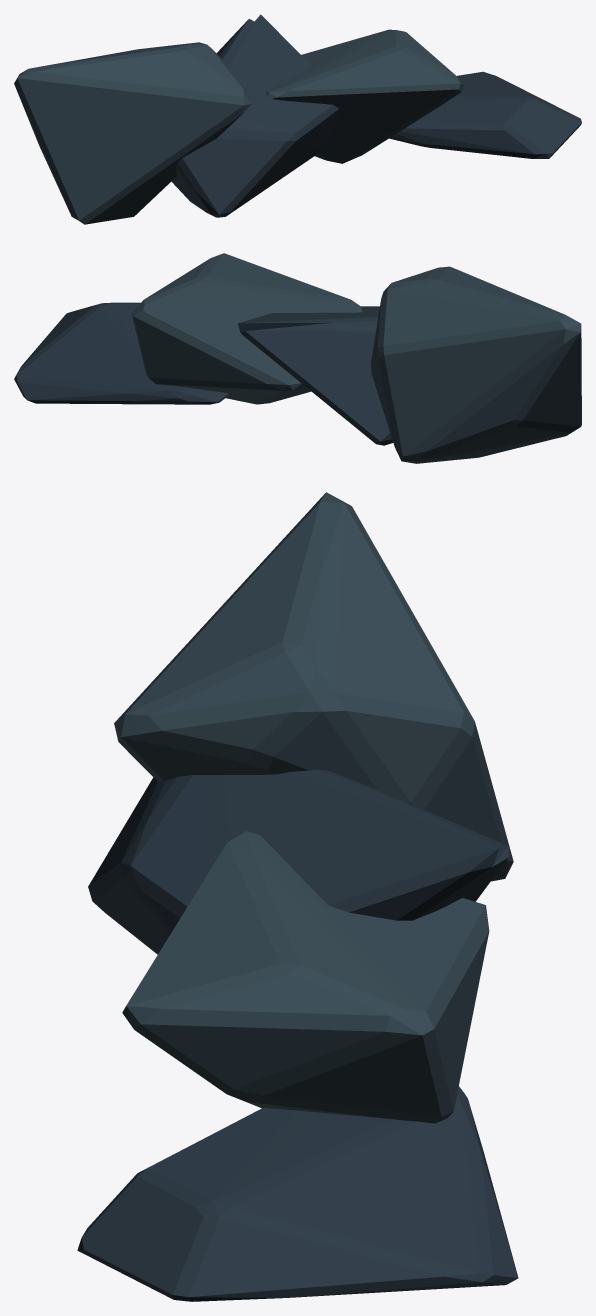
Rendered from inc_mare_rocha.fbx.
The picture shows the model from 3 angles, top to bottom: view 1: azimuth 30°, elevation 25°; view 2: azimuth 150°, elevation 25°; view 3: azimuth 270°, elevation 25°; orthographic projection. The views are drawn at different scales.
Visible parts, largest first — view 1: inc_mare_rocha; view 2: inc_mare_rocha; view 3: inc_mare_rocha.
Part boxes in pixels (left/top/right/bottom): inc_mare_rocha: left=14, top=14, right=581, bottom=224; inc_mare_rocha: left=14, top=253, right=581, bottom=463; inc_mare_rocha: left=77, top=492, right=518, bottom=1301.
Size of the model in its own units: 7.16 by 2.13 by 2.58.
